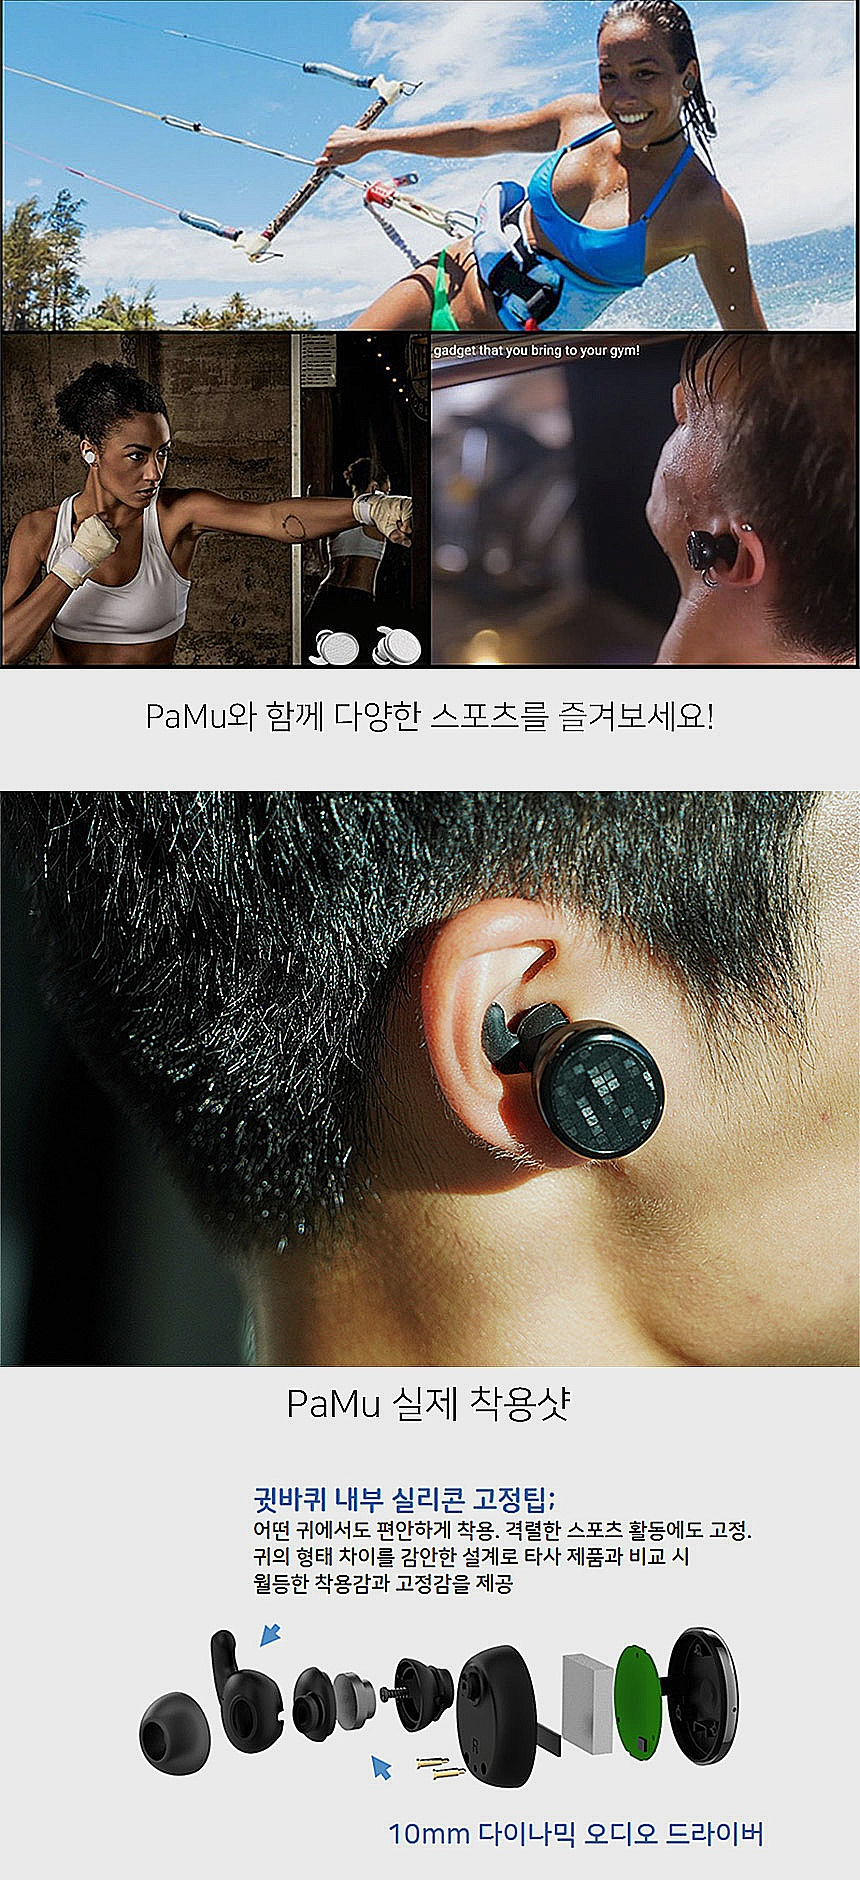earphone: (423, 898, 674, 1170), (684, 513, 766, 591), (676, 60, 699, 97), (79, 440, 101, 469)
